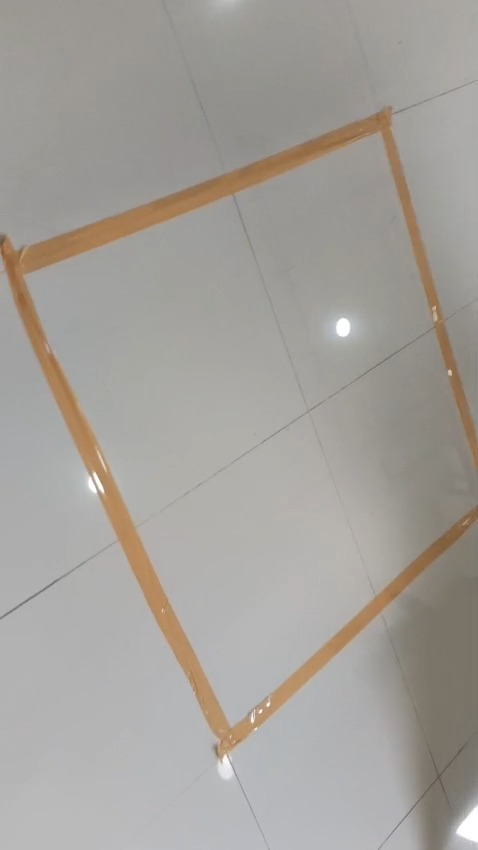floor marking: (1, 108, 477, 757)
